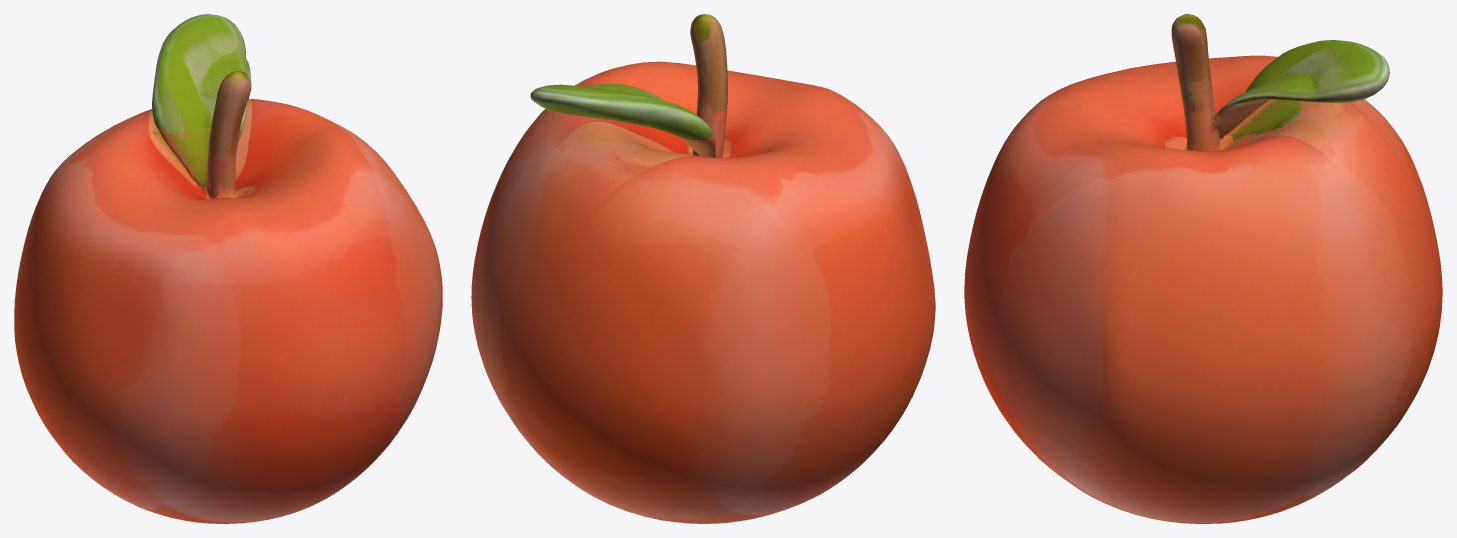
File: Apple.fbx
3 views of the same model, side by side, from view 1: azimuth 30°, elevation 25°; view 2: azimuth 150°, elevation 25°; view 3: azimuth 270°, elevation 25° (orthographic). The views are drawn at different scales.
Visible parts, largest first — view 1: Mesh1.0; view 2: Mesh1.0; view 3: Mesh1.0.
Boxes of the visible parts, x1=… form: Mesh1.0: x1=14, y1=14, x2=442, y2=523; Mesh1.0: x1=471, y1=14, x2=935, y2=523; Mesh1.0: x1=964, y1=14, x2=1442, y2=523.
Bounding box in the file's own units: 183 × 200 × 184.
Materials: 1 (1 with a texture image).
